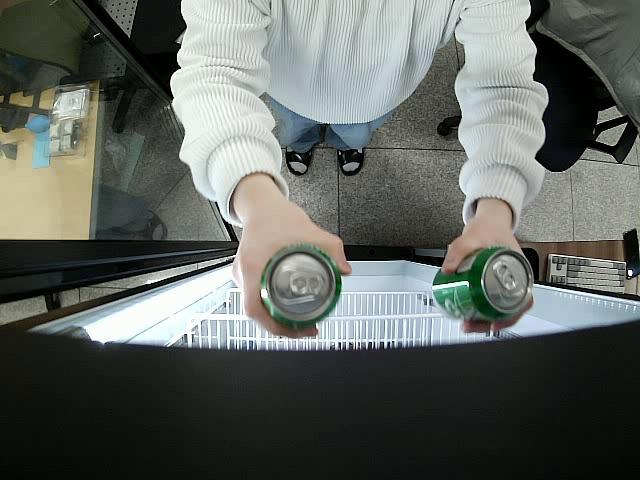00_hand: (230, 204, 351, 339), (441, 234, 534, 333)
12_chilsungCider: (432, 247, 533, 321), (261, 245, 342, 329)
